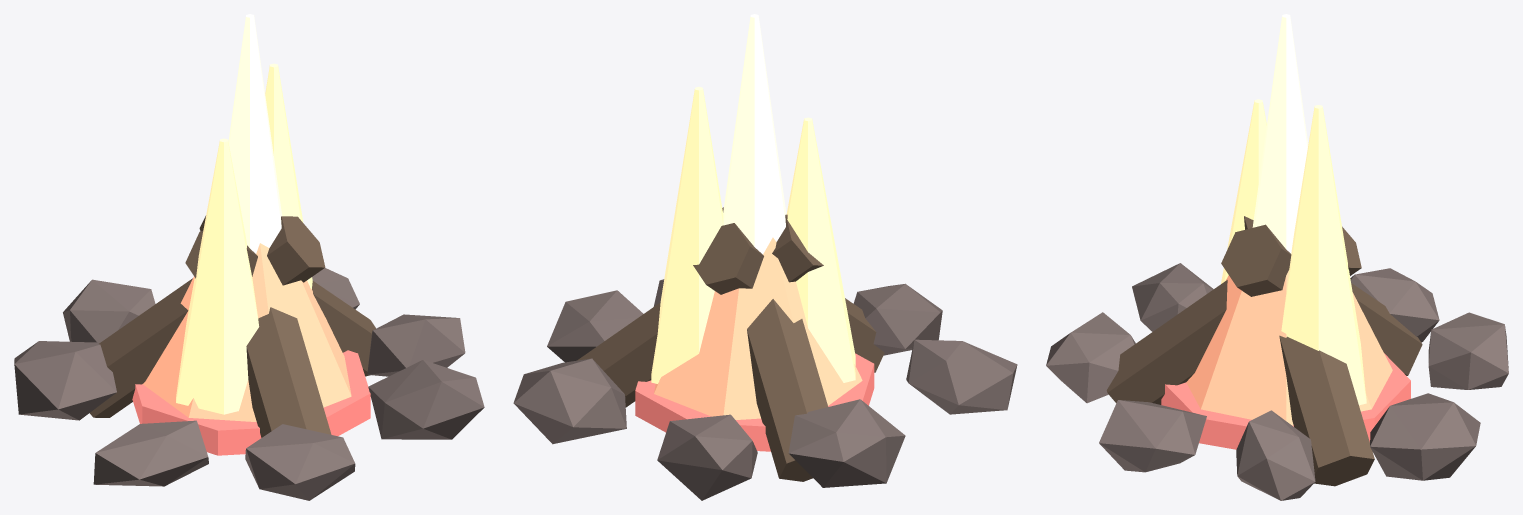
Rendered from campfire.glb.
3 renders of one model, left to right at view 1: azimuth 30°, elevation 25°; view 2: azimuth 150°, elevation 25°; view 3: azimuth 270°, elevation 25°, orthographic.
Parts seen in each view (by area): view 1: Stones, Logs, TongueC, FlameBase, TongueA, Embers, TongueB; view 2: Stones, Logs, FlameBase, TongueB, TongueA, TongueC, Embers; view 3: Stones, Logs, TongueB, FlameBase, TongueA, Embers, TongueC.
Part boxes in pixels (<box>): Stones: <box>14,268,484,500</box>; Logs: <box>89,216,375,437</box>; TongueC: <box>176,138,259,414</box>; FlameBase: <box>143,243,351,421</box>; TongueA: <box>228,14,281,253</box>; Embers: <box>132,350,370,455</box>; TongueB: <box>265,63,312,289</box>; Stones: <box>513,279,1017,500</box>; Logs: <box>577,207,884,481</box>; FlameBase: <box>654,237,862,419</box>; TongueB: <box>651,86,723,383</box>; TongueA: <box>723,14,786,254</box>; TongueC: <box>786,117,855,382</box>; Embers: <box>635,353,874,451</box>; Stones: <box>1046,263,1508,500</box>; Logs: <box>1106,216,1422,486</box>; TongueB: <box>1281,105,1366,405</box>; FlameBase: <box>1186,270,1392,425</box>; TongueA: <box>1252,14,1308,253</box>; Embers: <box>1161,353,1410,449</box>; TongueC: <box>1221,99,1266,283</box>.
Bounding box in the file's own units: 1.04 × 0.9867 × 1.
